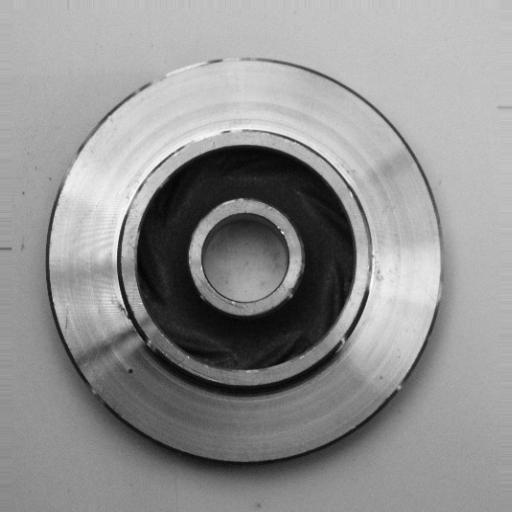scratch: (105, 296, 164, 362), (170, 120, 260, 157), (333, 329, 351, 361)
unpolished_casting: (48, 57, 447, 470)
